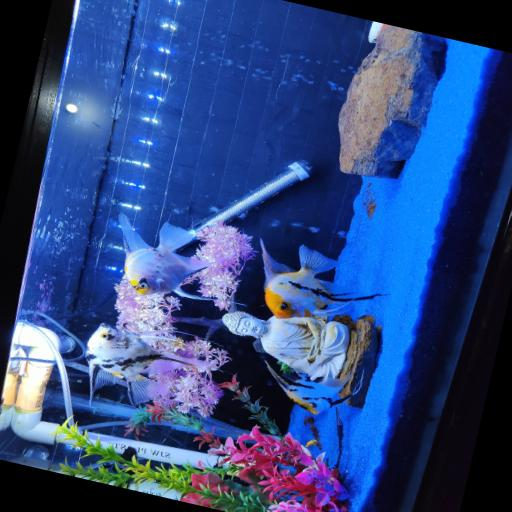Fish: (86, 324, 207, 406), (260, 240, 385, 318), (119, 214, 221, 300), (266, 361, 351, 414)
